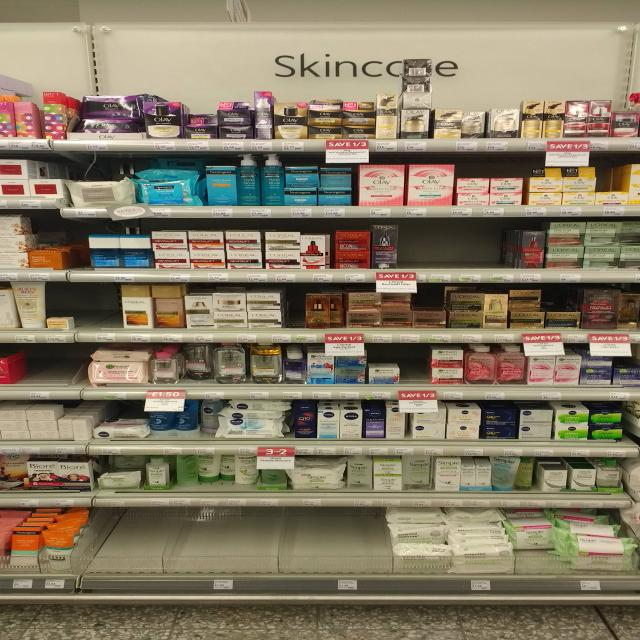unorganised: (174, 455, 256, 490), (491, 453, 540, 492), (303, 288, 346, 328), (217, 416, 290, 438), (182, 344, 214, 385), (507, 524, 555, 551), (404, 455, 432, 491), (154, 296, 183, 330), (506, 288, 547, 310), (283, 164, 318, 188), (319, 165, 353, 188), (198, 399, 218, 434), (341, 100, 374, 120), (533, 167, 596, 176), (186, 109, 217, 127)
